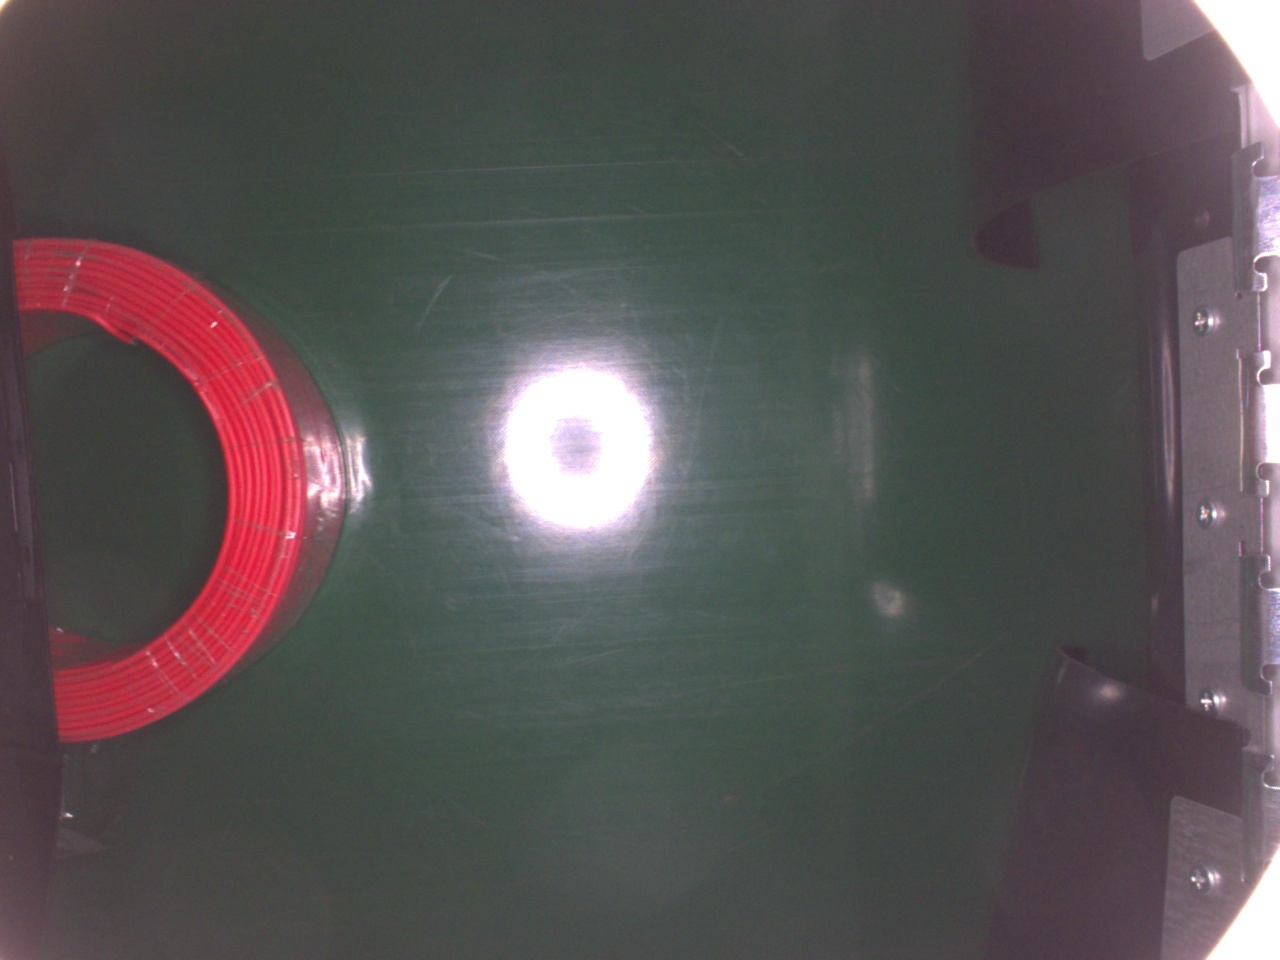red: (9, 231, 347, 747)
